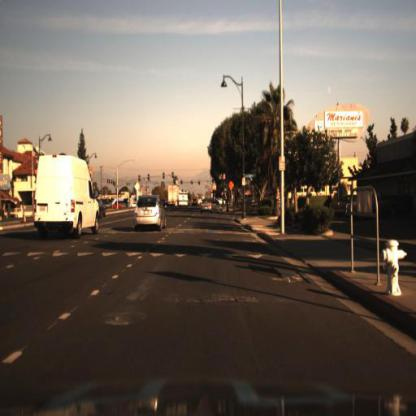car: (34, 154, 102, 239), (135, 196, 169, 233), (349, 191, 387, 222), (333, 193, 356, 223), (200, 195, 217, 218), (178, 192, 192, 213), (187, 193, 198, 213)
truck: (167, 183, 181, 208)
